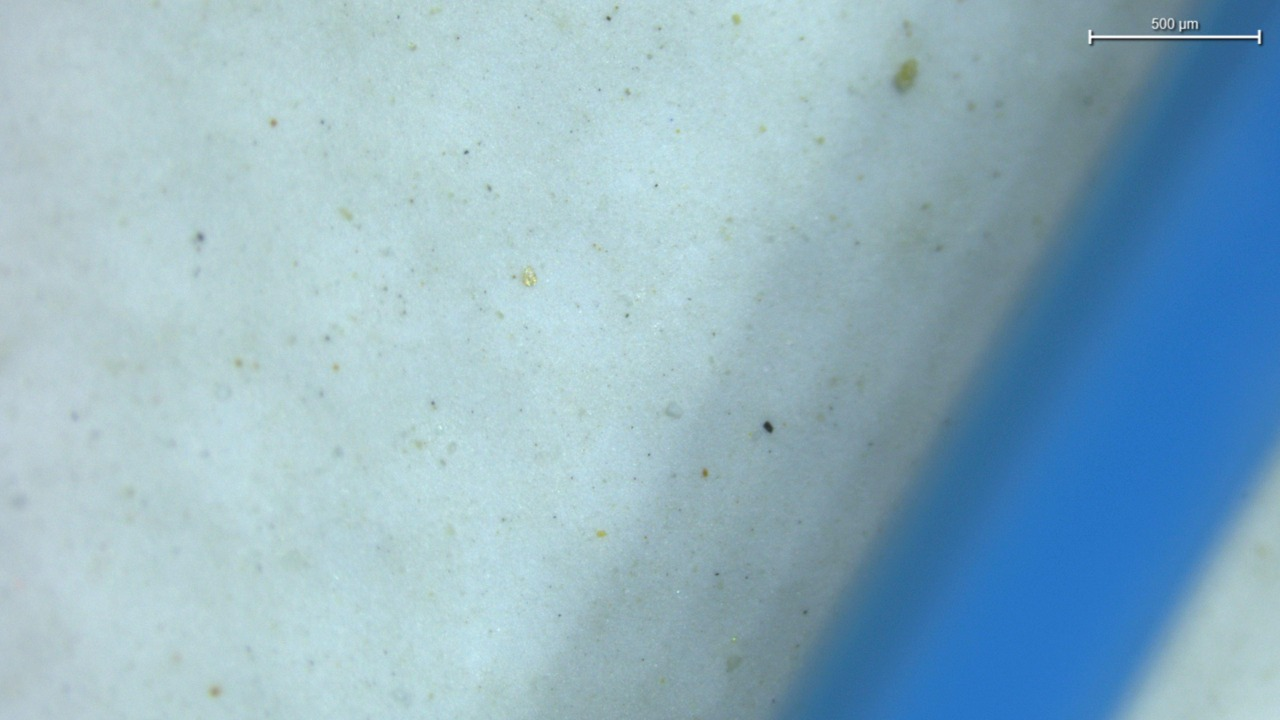microplastic_fragment: (522, 266, 537, 286)
